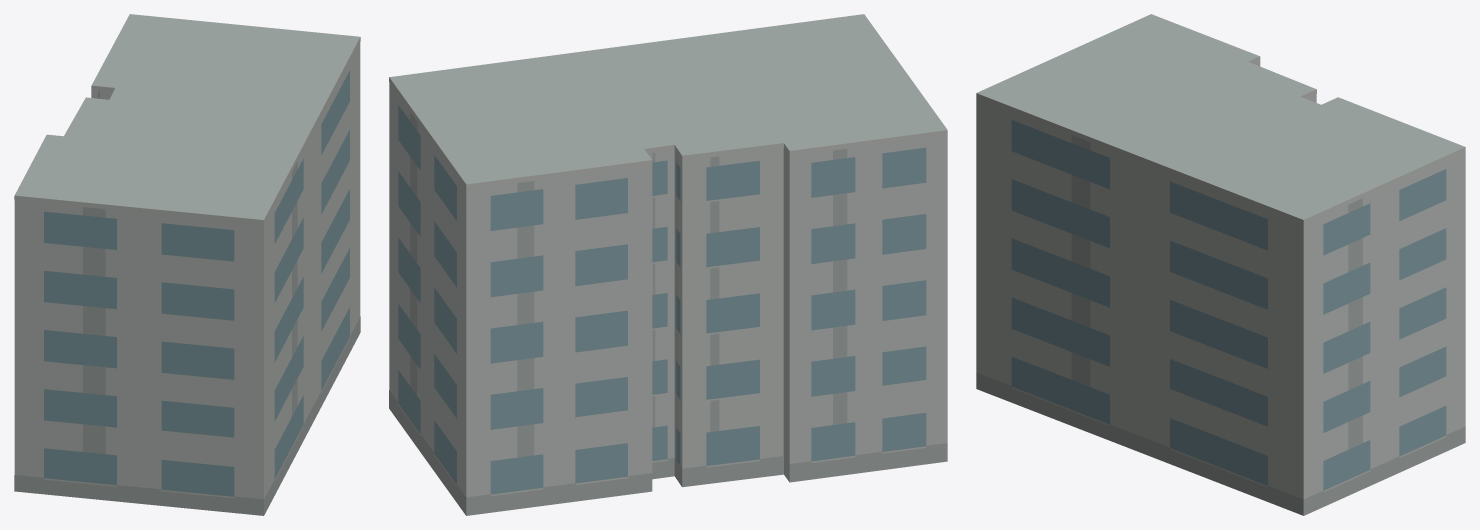
Rendered from survey-upis-32696473.glb.
3 views of the same model, side by side, from view 1: azimuth 30°, elevation 25°; view 2: azimuth 150°, elevation 25°; view 3: azimuth 270°, elevation 25° (orthographic). The views are drawn at different scales.
Visible parts, largest first — view 1: survey-upis-32696473.tmp; view 2: survey-upis-32696473.tmp; view 3: survey-upis-32696473.tmp.
Boxes of the visible parts, box(x1,y1,x2,y2) form: survey-upis-32696473.tmp: box(14, 14, 360, 515); survey-upis-32696473.tmp: box(389, 14, 947, 515); survey-upis-32696473.tmp: box(976, 14, 1465, 515).
Size of the model in its own units: 22.86 by 15.3 by 22.94.
